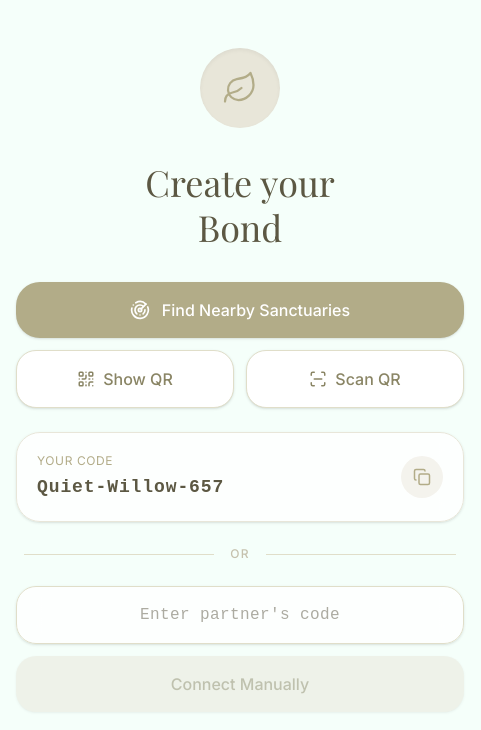
Test case: BondScreen › should show "Bond request sent" status after server confirms
Type "Calm-Meadow-408" into the field with placeholder "Enter partner's code" at (240, 615), box x1=16 y1=586 x2=464 y2=644
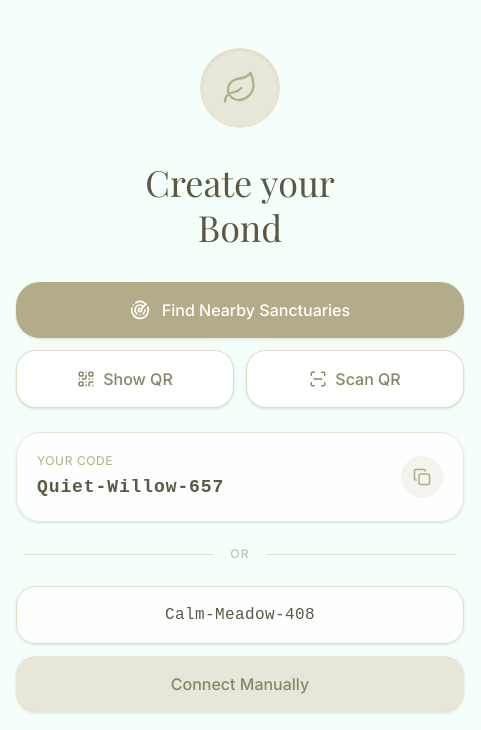
Click the button "Connect Manually" at (240, 684), box x1=16 y1=656 x2=464 y2=712
(page scrolled)
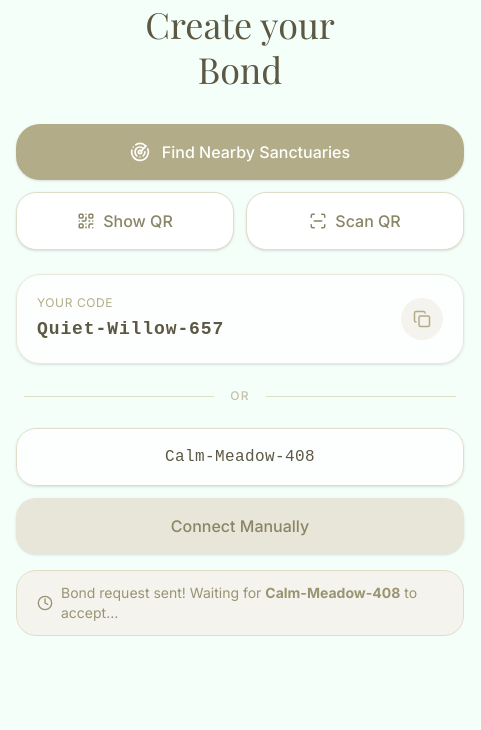
Check: the text "Bond request sent! Waiting for Calm-Meadow-408 to accept…" is shown, box x1=61 y1=583 x2=443 y2=623
